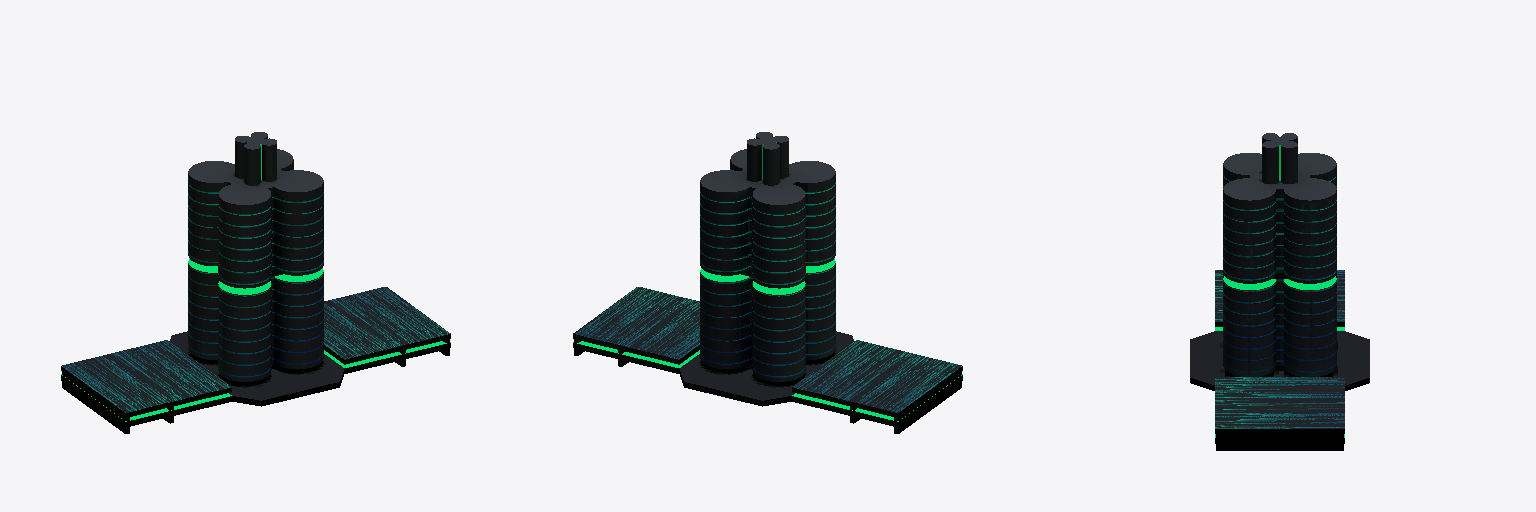
The picture shows the model from 3 angles: view 1: azimuth 30°, elevation 25°; view 2: azimuth 150°, elevation 25°; view 3: azimuth 270°, elevation 25°; orthographic projection.
Visible parts, largest first — view 1: Cube_Cube.001; view 2: Cube_Cube.001; view 3: Cube_Cube.001.
Part boxes in pixels (x1,y1,x2,y2): Cube_Cube.001: (61,132,450,433); Cube_Cube.001: (573,132,962,433); Cube_Cube.001: (1190,133,1369,450).
Size of the model in its own units: 4.93 by 3.35 by 2.35.
5 materials, 1 textured.